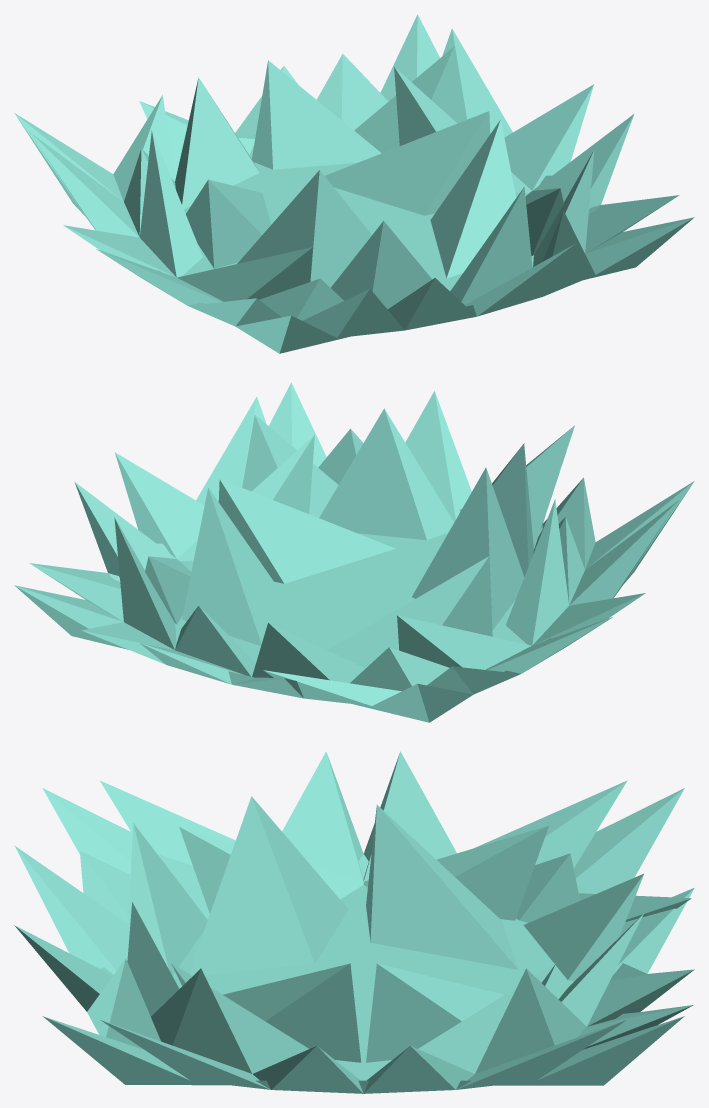
File: laserEffect.gltf
The picture shows the model from 3 angles, top to bottom: view 1: azimuth 30°, elevation 25°; view 2: azimuth 150°, elevation 25°; view 3: azimuth 270°, elevation 25°; orthographic projection. The views are drawn at different scales.
Visible parts, largest first — view 1: レーザーエフェクト; view 2: レーザーエフェクト; view 3: レーザーエフェクト.
Boxes of the visible parts, bbox=[...] form: レーザーエフェクト: bbox=[14, 14, 694, 353]; レーザーエフェクト: bbox=[14, 382, 694, 722]; レーザーエフェクト: bbox=[14, 751, 694, 1093].
Size of the model in its own units: 21.19 by 8.12 by 20.13.
Materials: 1 (1 with a texture image).
